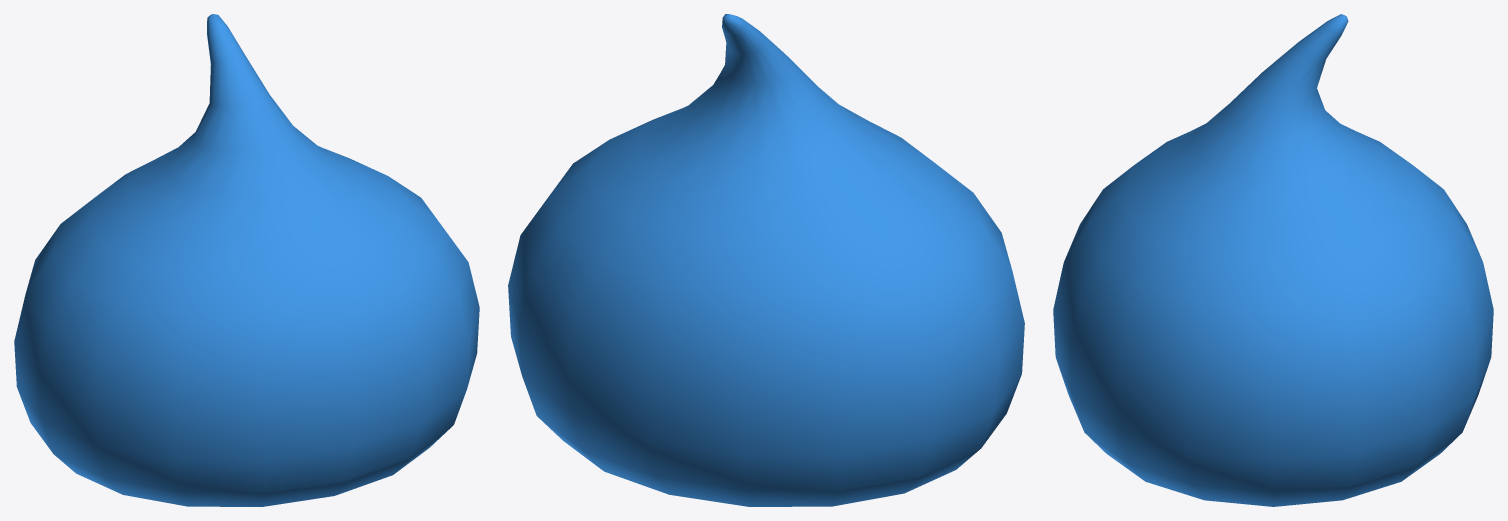
Rendered from Slime.fbx.
3 renders of one model, left to right at view 1: azimuth 30°, elevation 25°; view 2: azimuth 150°, elevation 25°; view 3: azimuth 270°, elevation 25°, orthographic. The views are drawn at different scales.
Visible parts, largest first — view 1: Slime; view 2: Slime; view 3: Slime.
Boxes of the visible parts, bbox=[...] form: Slime: bbox=[14, 14, 479, 506]; Slime: bbox=[508, 14, 1024, 506]; Slime: bbox=[1053, 14, 1493, 506].
Size of the model in its own units: 188 by 178 by 167.
